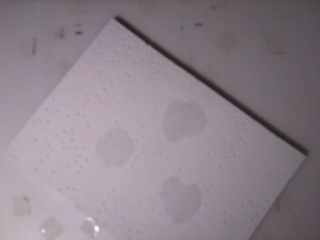Water_detected: (165, 100, 199, 135), (100, 129, 132, 164), (169, 178, 196, 215)
